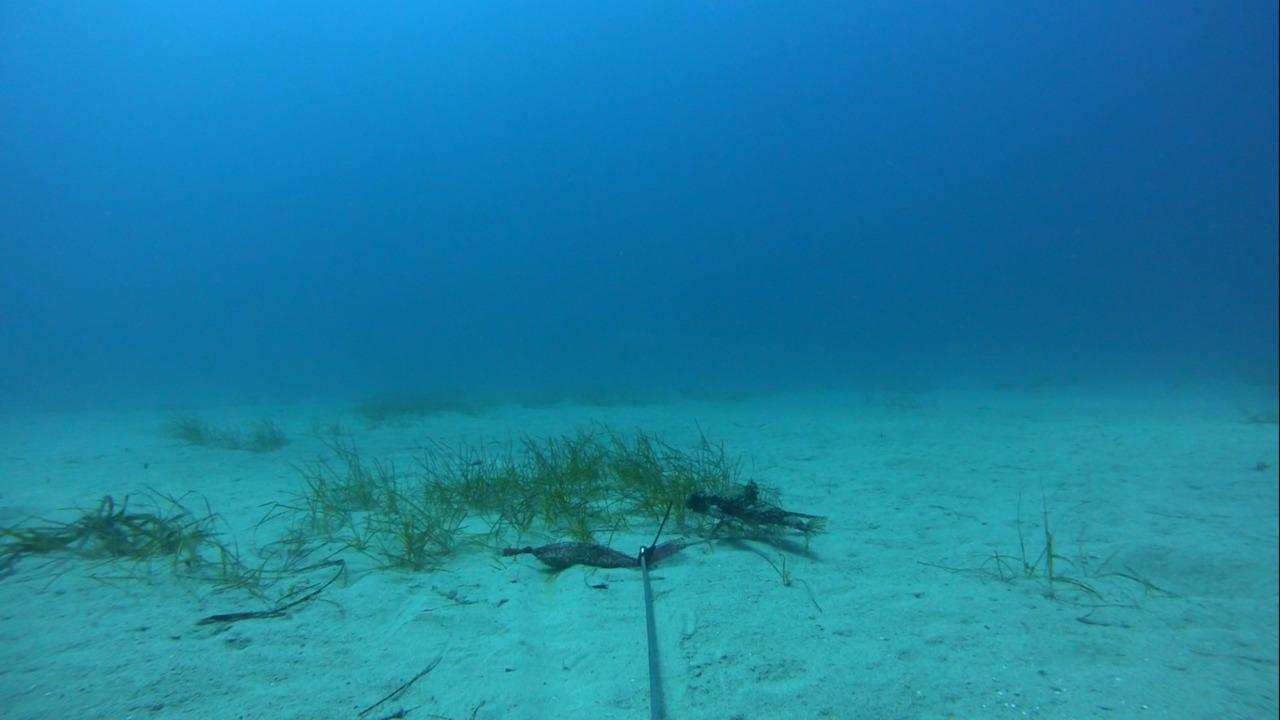dactylopterus: (677, 473, 826, 548)
